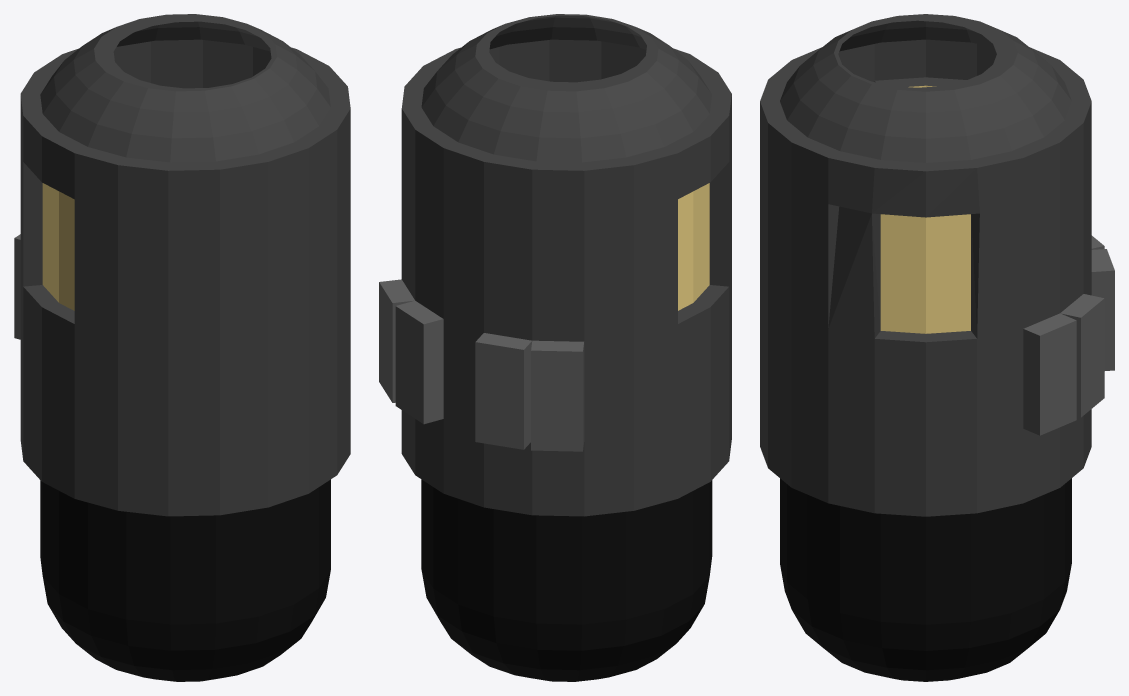
File: CoatMesh.fbx
The picture shows the model from 3 angles, left to right: view 1: azimuth 30°, elevation 25°; view 2: azimuth 150°, elevation 25°; view 3: azimuth 270°, elevation 25°; orthographic projection.
Visible parts, largest first — view 1: pCylinder56; view 2: pCylinder56; view 3: pCylinder56.
Boxes of the visible parts, bbox=[...] form: pCylinder56: bbox=[14, 14, 350, 681]; pCylinder56: bbox=[379, 14, 731, 681]; pCylinder56: bbox=[760, 14, 1114, 681].
Size of the model in its own units: 74.95 by 150 by 80.19.
1 material, 1 textured.
